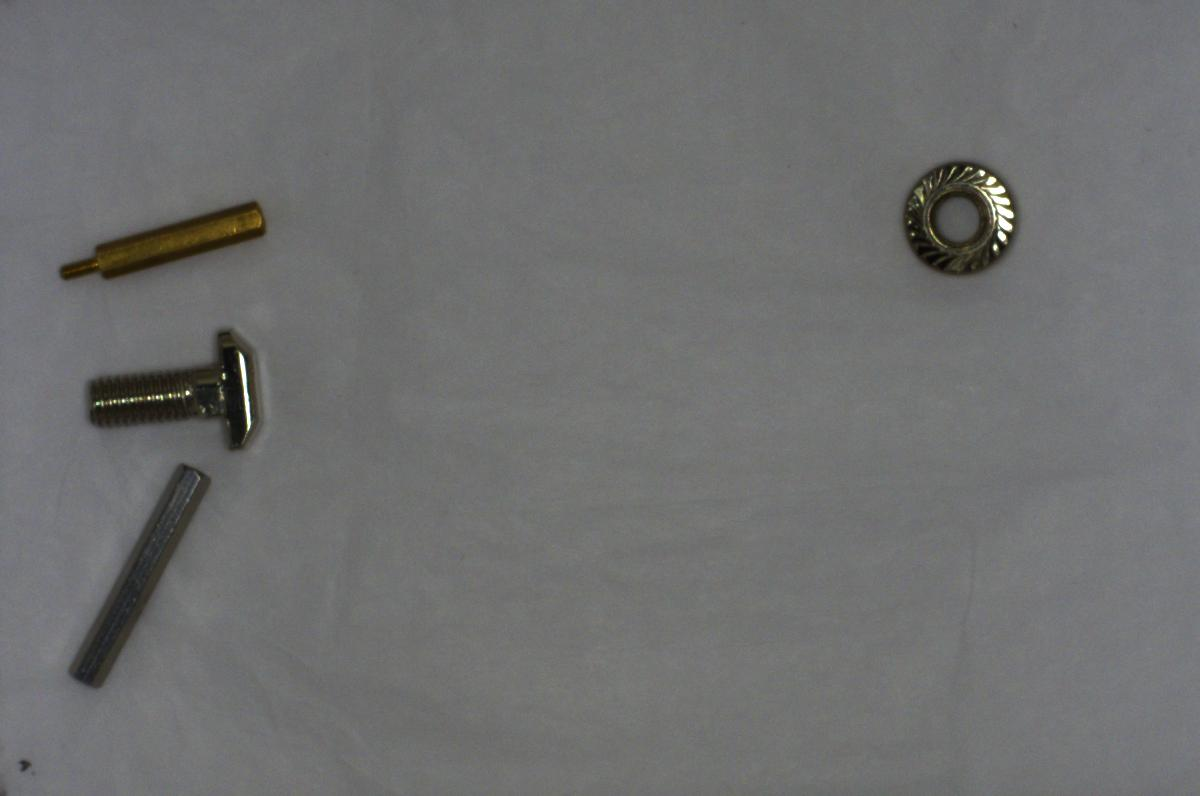Double hexagonal column: (57, 454, 214, 694)
Flange nut: (892, 150, 1027, 282)
Hexagon pillar: (52, 187, 273, 290)
T-shaped screw: (79, 321, 277, 454)
